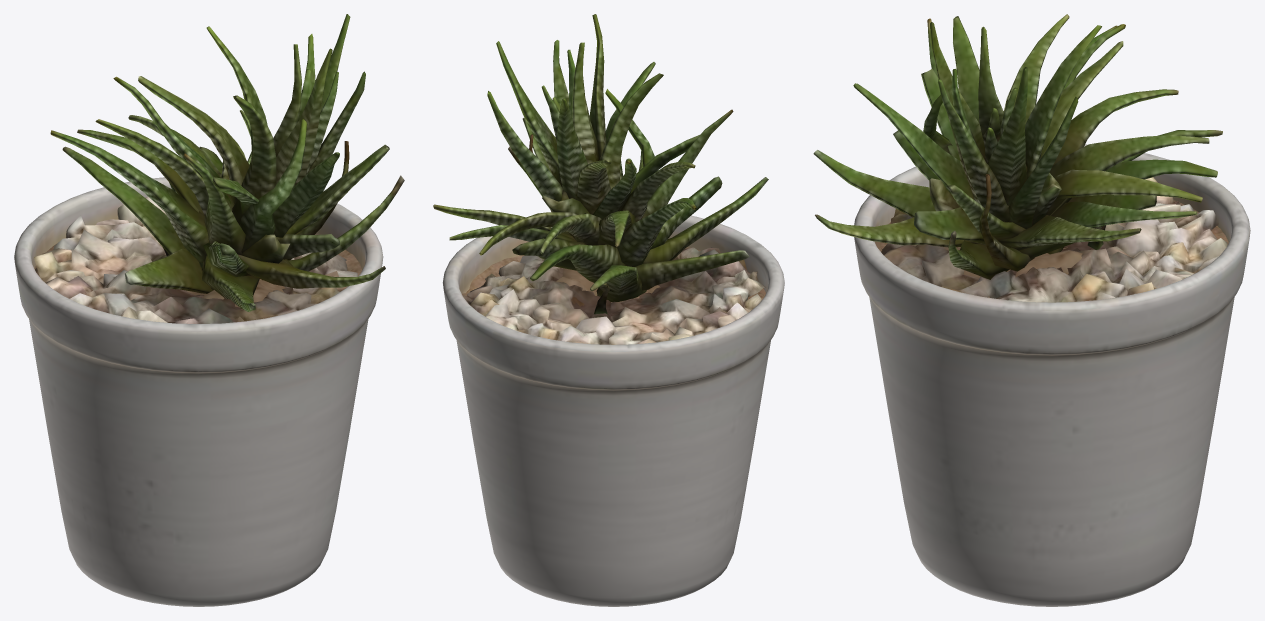
Rendered from potted_plant_3.glb.
The picture shows the model from 3 angles, left to right: view 1: azimuth 30°, elevation 25°; view 2: azimuth 150°, elevation 25°; view 3: azimuth 270°, elevation 25°; orthographic projection. The views are drawn at different scales.
Parts seen in each view (by area): view 1: potted_plant_04_pot, potted_plant_04_plant, potted_plant_04_ground, potted_plant_04_dirt; view 2: potted_plant_04_pot, potted_plant_04_plant, potted_plant_04_ground, potted_plant_04_dirt; view 3: potted_plant_04_pot, potted_plant_04_plant, potted_plant_04_ground, potted_plant_04_dirt.
Boxes of the visible parts, x1,y1,x2,y2 form: potted_plant_04_pot: (14,177,383,606); potted_plant_04_plant: (50,14,404,311); potted_plant_04_ground: (34,196,357,323); potted_plant_04_dirt: (34,238,362,307); potted_plant_04_pot: (442,215,784,606); potted_plant_04_plant: (433,14,768,314); potted_plant_04_ground: (463,247,765,344); potted_plant_04_dirt: (462,247,765,306); potted_plant_04_pot: (854,144,1250,606); potted_plant_04_plant: (813,14,1222,279); potted_plant_04_ground: (881,177,1227,302); potted_plant_04_dirt: (875,200,1228,297).
Size of the model in its own units: 0.1679 by 0.2675 by 0.1848.
Materials: 1 (1 with a texture image).
